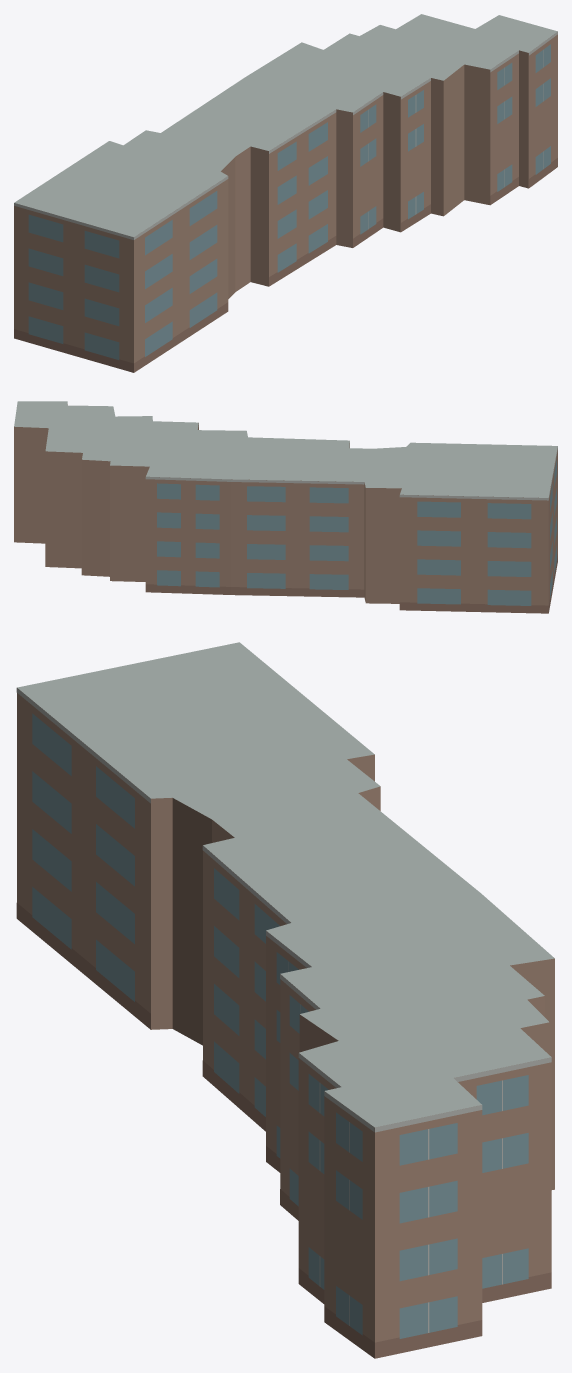
File: survey-upis-32758675.glb
3 views of the same model, one above another, from view 1: azimuth 30°, elevation 25°; view 2: azimuth 150°, elevation 25°; view 3: azimuth 270°, elevation 25° (orthographic). The views are drawn at different scales.
Parts seen in each view (by area): view 1: survey-upis-32758675.tmp; view 2: survey-upis-32758675.tmp; view 3: survey-upis-32758675.tmp.
Boxes of the visible parts, x1,y1,x2,y2 form: survey-upis-32758675.tmp: [14, 14, 557, 372]; survey-upis-32758675.tmp: [14, 401, 557, 613]; survey-upis-32758675.tmp: [16, 642, 554, 1358].
Bounding box in the file's own units: 50.66 × 11.25 × 23.74.
